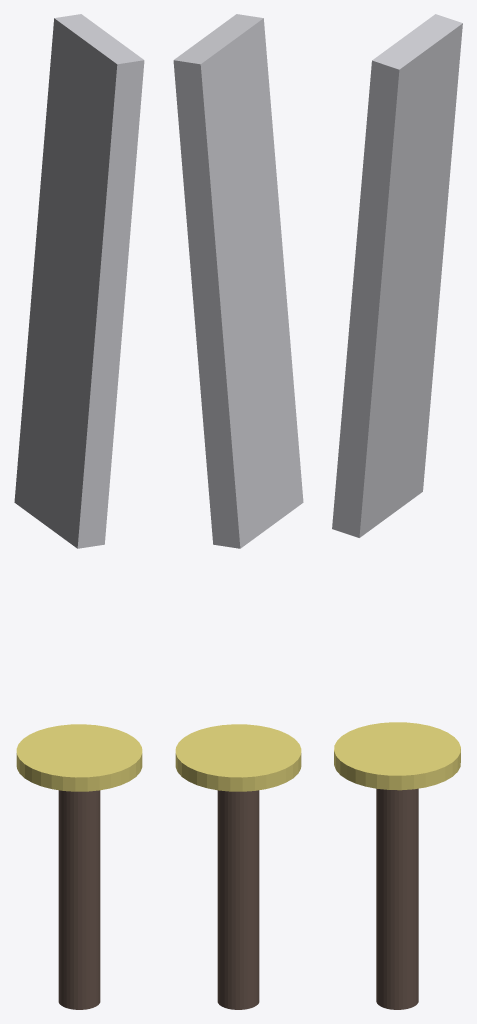
The model's file is katana.glb.
3 views of the same model, side by side, from view 1: azimuth 30°, elevation 25°; view 2: azimuth 150°, elevation 25°; view 3: azimuth 330°, elevation 25° (orthographic).
Visible parts, largest first — view 1: Blade, Handle, Guard; view 2: Blade, Handle, Guard; view 3: Blade, Handle, Guard.
Part boxes in pixels (bbox=[...]): Blade: bbox=[14, 14, 144, 548]; Handle: bbox=[58, 790, 100, 1009]; Guard: bbox=[16, 724, 142, 791]; Blade: bbox=[173, 14, 303, 548]; Handle: bbox=[217, 790, 259, 1009]; Guard: bbox=[175, 724, 301, 791]; Blade: bbox=[332, 14, 462, 537]; Handle: bbox=[376, 788, 418, 1009]; Guard: bbox=[334, 722, 460, 790].
Size of the model in its own units: 0.12 by 1.01 by 0.12.
